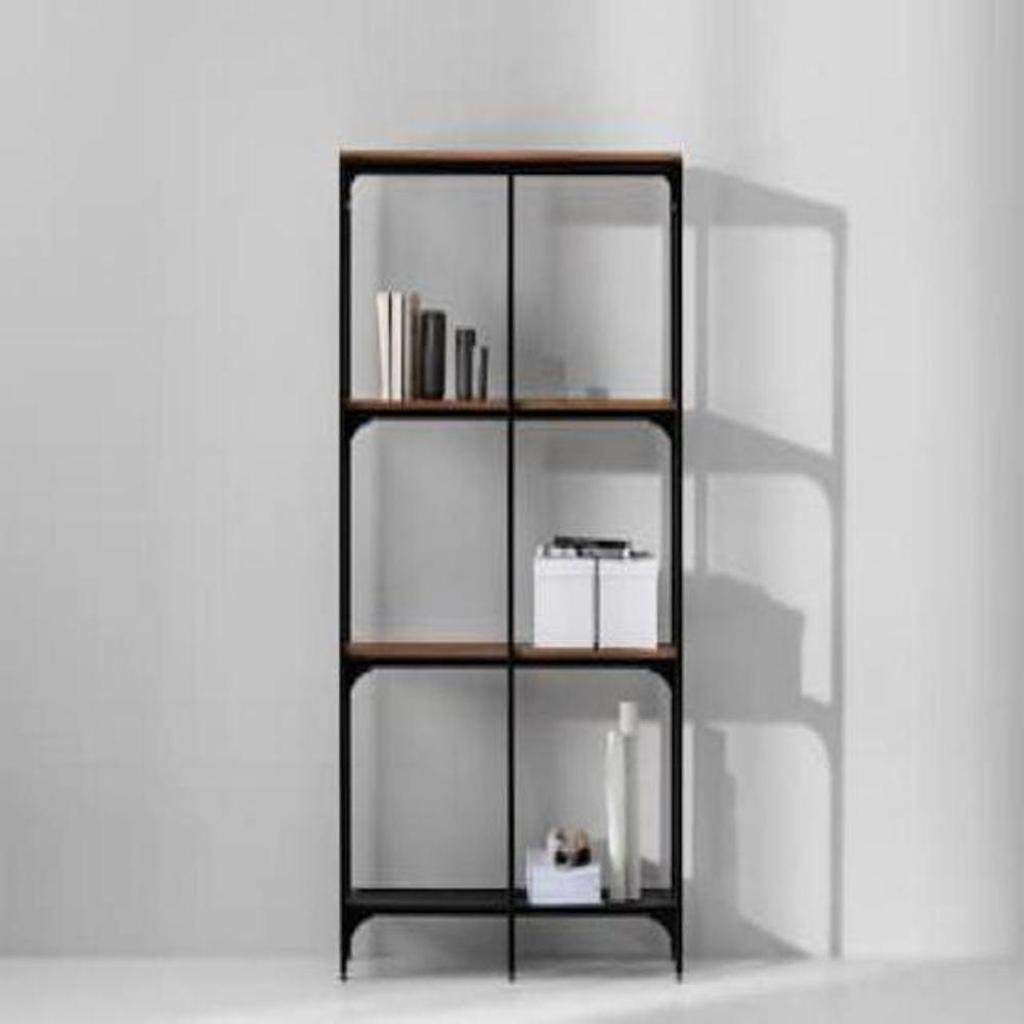lamp: (336, 148, 683, 986)
